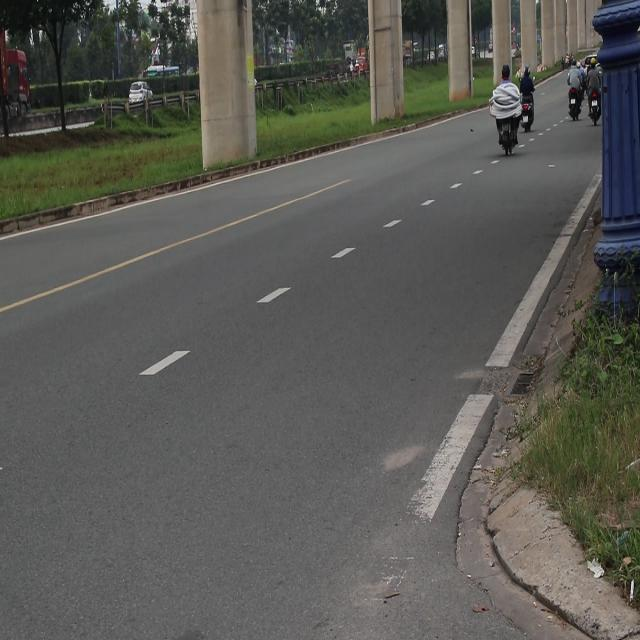car: (128, 80, 153, 108)
motorbike: (493, 113, 518, 164), (564, 90, 582, 128), (589, 88, 599, 140), (520, 102, 534, 134)
truck: (0, 39, 40, 133)
